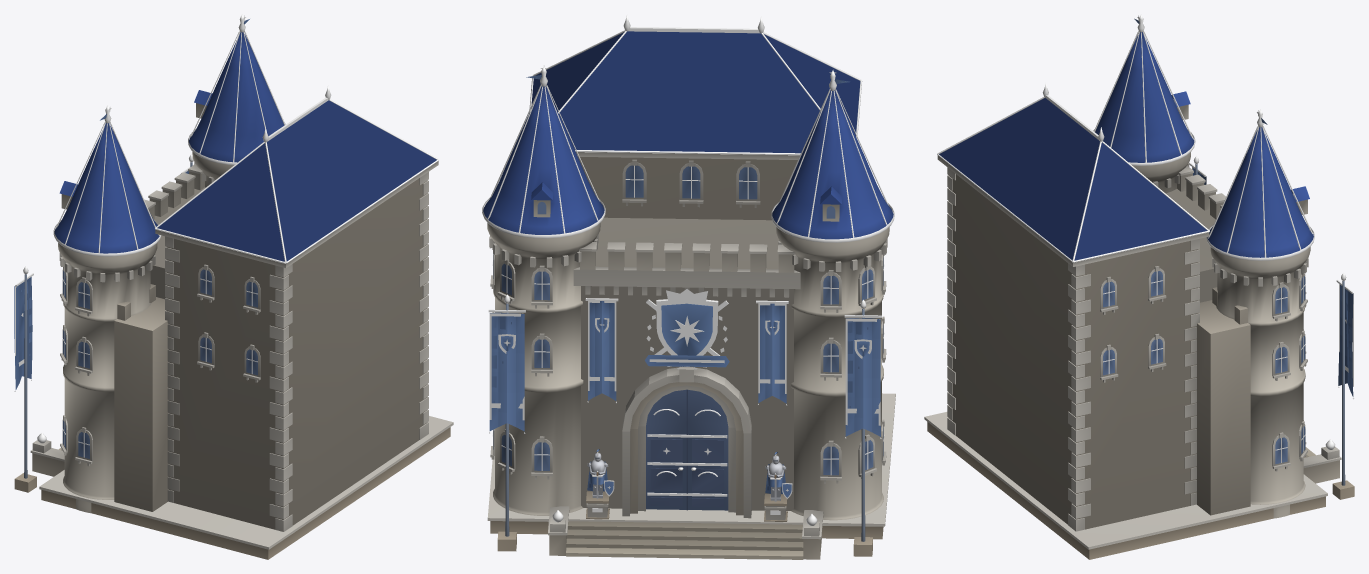
Rendered from knight_hq.glb.
3 views of the same model, side by side, from view 1: azimuth 30°, elevation 25°; view 2: azimuth 150°, elevation 25°; view 3: azimuth 270°, elevation 25° (orthographic). The views are drawn at different scales.
Parts seen in each view (by area): view 1: Knight_stone, Knight_roof, Knight_gold, Knight_props; view 2: Knight_stone, Knight_roof, Knight_props, Knight_gold; view 3: Knight_stone, Knight_roof, Knight_gold, Knight_props.
Boxes of the visible parts, x1,y1,x2,y2 form: Knight_stone: (14,103,453,559); Knight_roof: (54,32,436,261); Knight_gold: (14,14,438,457); Knight_props: (14,19,257,478); Knight_stone: (487,152,895,559); Knight_roof: (483,31,893,239); Knight_props: (489,75,883,541); Knight_gold: (482,14,894,525); Knight_stone: (924,99,1354,559); Knight_roof: (939,32,1313,260); Knight_gold: (937,14,1353,462); Knight_props: (1103,18,1353,485).
Bounding box in the file's own units: 19.76 × 19 × 18.95.
